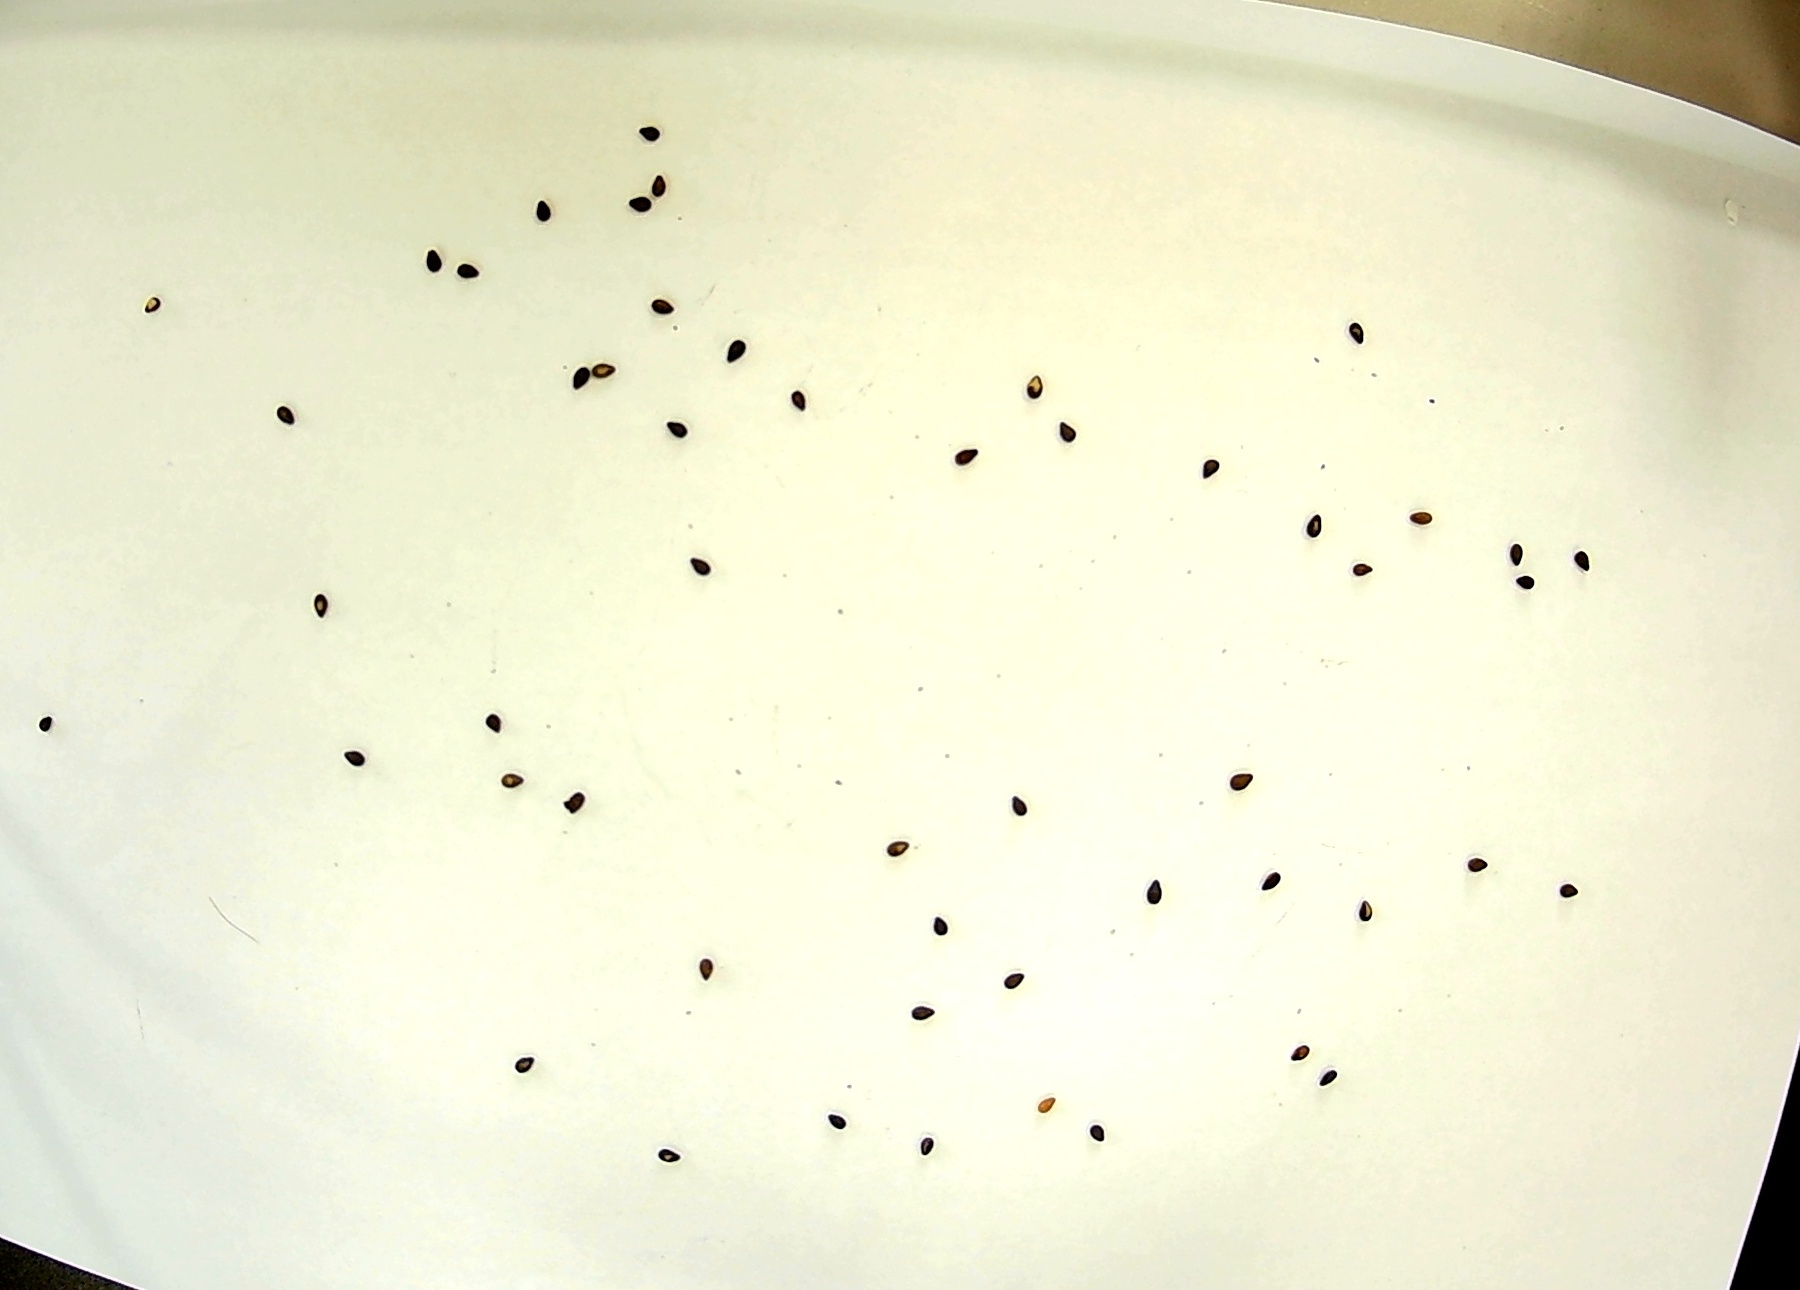sesami: (642, 170, 678, 202), (451, 257, 487, 289), (410, 239, 447, 271), (555, 357, 592, 390), (594, 350, 631, 383), (642, 290, 678, 322), (724, 329, 760, 362), (35, 708, 71, 740), (261, 392, 297, 424), (299, 579, 335, 611), (332, 746, 368, 778), (561, 787, 597, 820), (508, 1041, 544, 1074), (680, 949, 716, 981), (823, 1107, 860, 1139), (1088, 1114, 1125, 1146), (1288, 1033, 1324, 1065), (1314, 1054, 1351, 1086), (1345, 900, 1381, 933), (1454, 842, 1490, 874), (1554, 874, 1591, 906), (1561, 539, 1598, 571), (1497, 531, 1533, 563), (1507, 565, 1543, 598), (1289, 511, 1326, 543), (1194, 451, 1231, 483), (1016, 366, 1052, 398), (654, 410, 691, 443), (678, 550, 714, 582), (1224, 761, 1260, 793), (1141, 873, 1178, 905), (996, 965, 1033, 997), (880, 826, 917, 859), (878, 826, 914, 859), (493, 764, 527, 796), (654, 1139, 689, 1171), (906, 1122, 940, 1155), (1033, 1092, 1067, 1124), (1400, 500, 1434, 532), (1347, 316, 1381, 348), (1333, 551, 1367, 584), (1053, 419, 1088, 451), (947, 438, 982, 470), (786, 383, 820, 415), (1000, 789, 1035, 821), (1254, 868, 1289, 900), (906, 995, 940, 1028), (927, 910, 961, 942), (632, 119, 668, 149), (622, 193, 659, 223), (527, 186, 564, 216), (141, 281, 177, 311), (472, 704, 508, 734)
